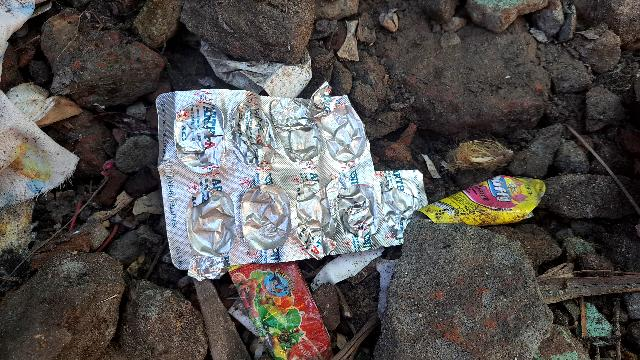medicine: (143, 91, 431, 272)
